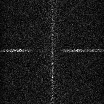wifi: (1, 48, 104, 52)
